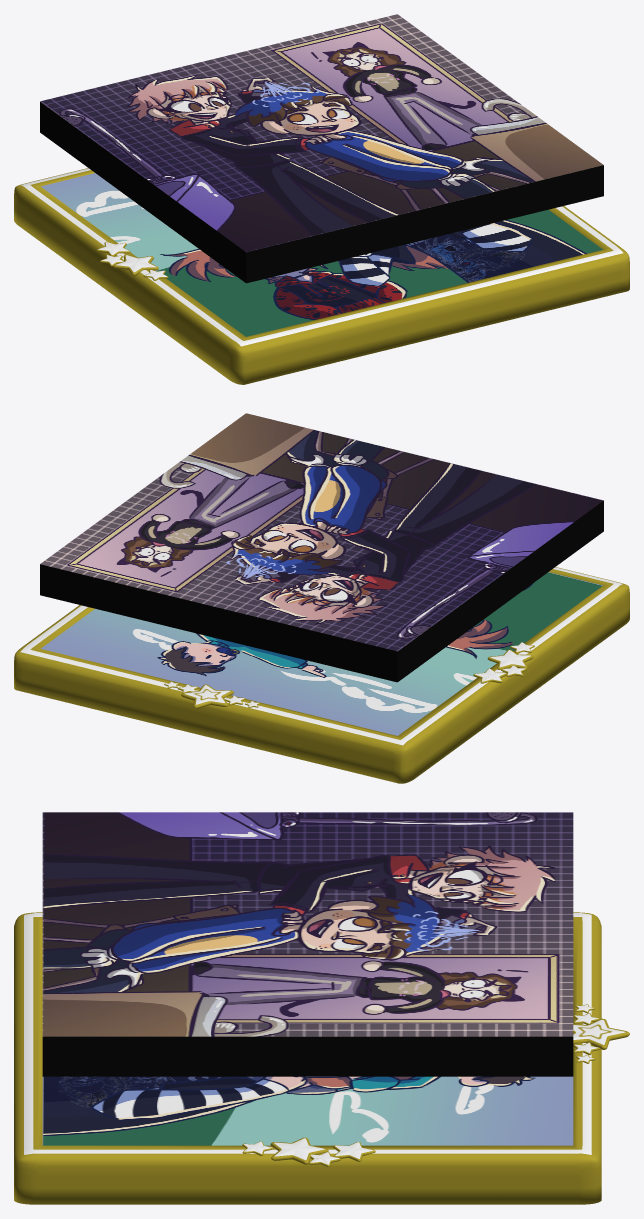
File: Export Puzles.fbx
The picture shows the model from 3 angles, top to bottom: view 1: azimuth 30°, elevation 25°; view 2: azimuth 150°, elevation 25°; view 3: azimuth 270°, elevation 25°; orthographic projection. The views are drawn at different scales.
Visible parts, largest first — view 1: tablon, Pieza 4.001, Pieza 1.001, Pieza 2.001, Pieza 3.001, Pieza 5.001, Pieza 7.001, Pieza 6.001, Pieza 12.001, Pieza 8.001, Pieza 9.001, Pieza 11.001 (+13 smaller); view 2: tablon, Pieza 7.001, Pieza 16.001, Pieza 14.001, Pieza 15.001, Pieza 5.001, Pieza 4.001, Pieza 6.001, Pieza 13.001, Pieza 1.001, Pieza 12.001, Pieza 10.001 (+13 smaller); view 3: tablon, Pieza 1.001, Pieza 14.001, Pieza 10.001, Pieza 11.001, Pieza 16.001, Pieza 3.001, Pieza 15.001, Pieza 2.001, Pieza 4.001, Pieza 7.001, Pieza 12.001 (+14 smaller).
Part boxes in pixels (left/top/right/bottom): tablon: left=14, top=168, right=629, bottom=384; Pieza 4.001: left=194, top=193, right=335, bottom=283; Pieza 1.001: left=463, top=127, right=603, bottom=217; Pieza 2.001: left=374, top=149, right=514, bottom=239; Pieza 3.001: left=284, top=171, right=424, bottom=261; Pieza 5.001: left=143, top=155, right=283, bottom=245; Pieza 7.001: left=40, top=79, right=180, bottom=169; Pieza 6.001: left=91, top=117, right=231, bottom=207; Pieza 12.001: left=270, top=73, right=410, bottom=132; Pieza 8.001: left=233, top=133, right=372, bottom=192; Pieza 9.001: left=322, top=111, right=462, bottom=170; Pieza 11.001: left=360, top=52, right=500, bottom=111; tablon: left=14, top=567, right=629, bottom=783; Pieza 7.001: left=308, top=592, right=448, bottom=682; Pieza 16.001: left=218, top=570, right=358, bottom=660; Pieza 14.001: left=40, top=526, right=180, bottom=616; Pieza 15.001: left=129, top=548, right=269, bottom=638; Pieza 5.001: left=411, top=516, right=552, bottom=606; Pieza 4.001: left=463, top=478, right=603, bottom=568; Pieza 6.001: left=360, top=554, right=500, bottom=644; Pieza 13.001: left=271, top=532, right=410, bottom=591; Pieza 1.001: left=195, top=413, right=334, bottom=472; Pieza 12.001: left=181, top=510, right=321, bottom=569; Pieza 10.001: left=143, top=451, right=283, bottom=510; tablon: left=14, top=912, right=601, bottom=1204; Pieza 1.001: left=42, top=980, right=175, bottom=1076; Pieza 14.001: left=440, top=980, right=573, bottom=1076; Pieza 10.001: left=175, top=980, right=307, bottom=1076; Pieza 11.001: left=308, top=980, right=440, bottom=1076; Pieza 16.001: left=440, top=868, right=573, bottom=924; Pieza 3.001: left=42, top=868, right=175, bottom=924; Pieza 15.001: left=440, top=924, right=573, bottom=980; Pieza 2.001: left=42, top=924, right=175, bottom=980; Pieza 4.001: left=42, top=812, right=175, bottom=868; Pieza 7.001: left=440, top=812, right=573, bottom=868; Pieza 12.001: left=308, top=924, right=440, bottom=980.
Bounding box in the file's own units: 387 × 106 × 378.
